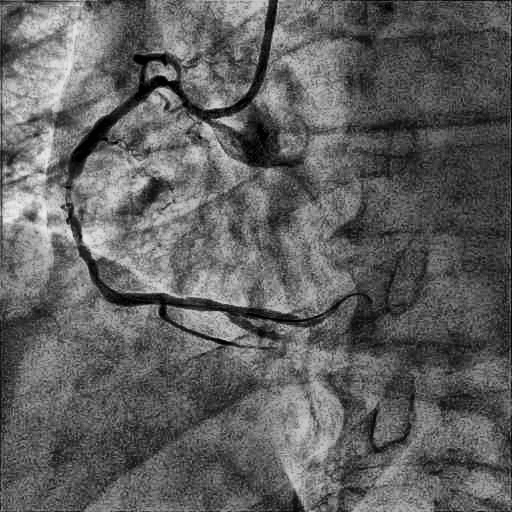pborca: (234, 302, 338, 327)
pda: (223, 311, 296, 342)
rca: (65, 76, 233, 312)
